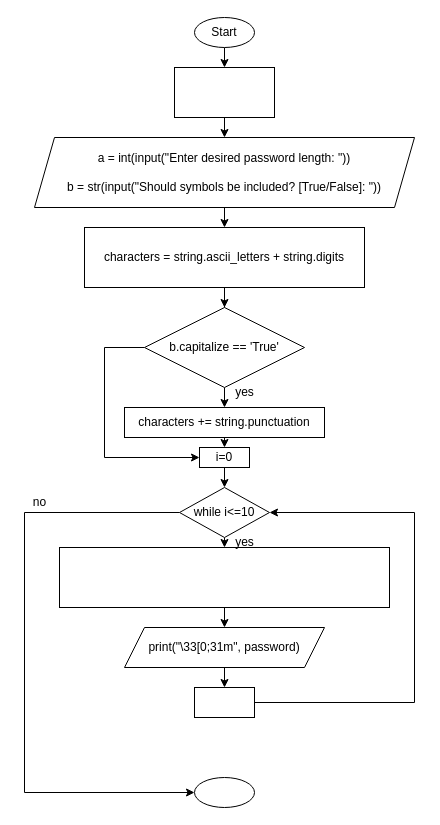
The diagram is 440 pixels wide and 825 high, and some of its shapes have lost their labels. Each missing label, with the centre of its shape:
"End" goes at (x=224, y=792).
"i+=1" goes at (x=224, y=702).
"import random import string" goes at (x=224, y=92).
"password = ''.join(random.choice(characters) for i in range(a))" goes at (x=224, y=577).
